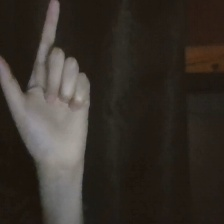L: (1, 1, 104, 177)
